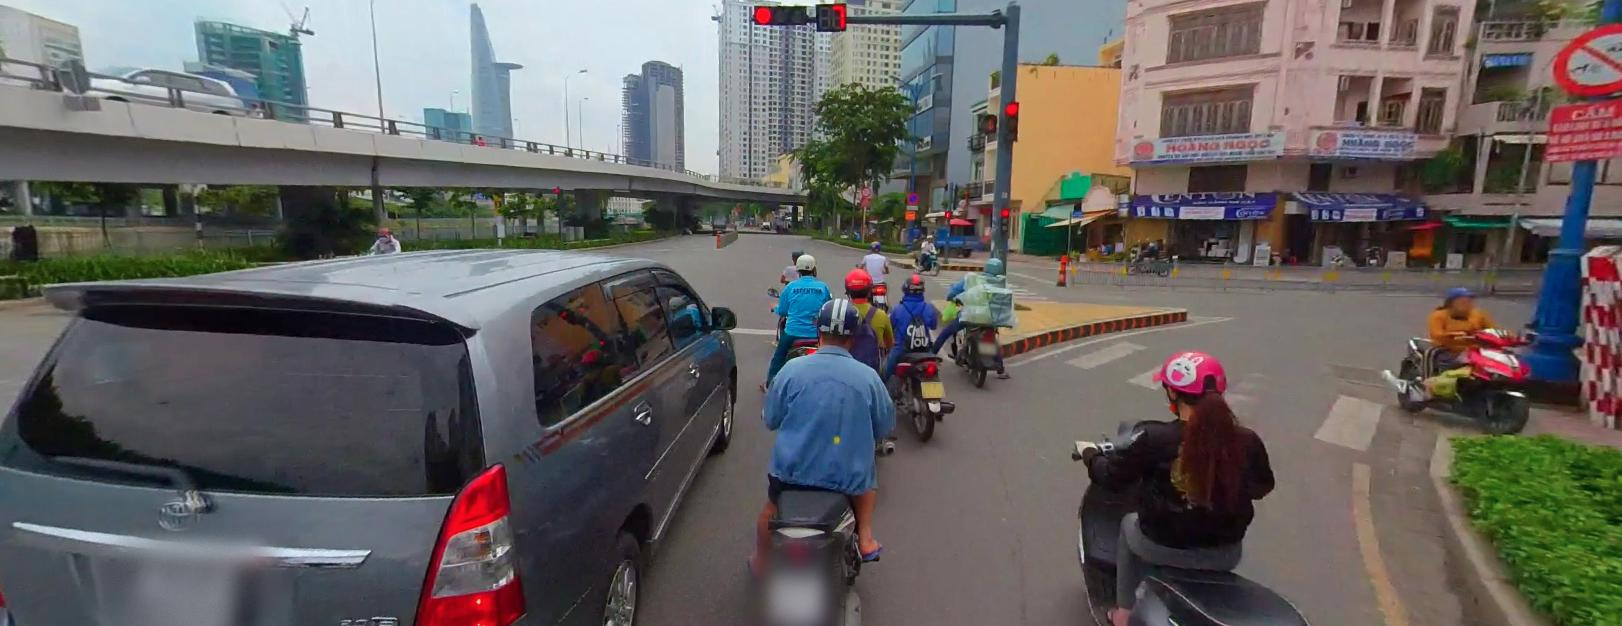Cam con lai: (1553, 24, 1621, 95), (861, 184, 871, 195)
Cam dung va do: (905, 192, 919, 203)
